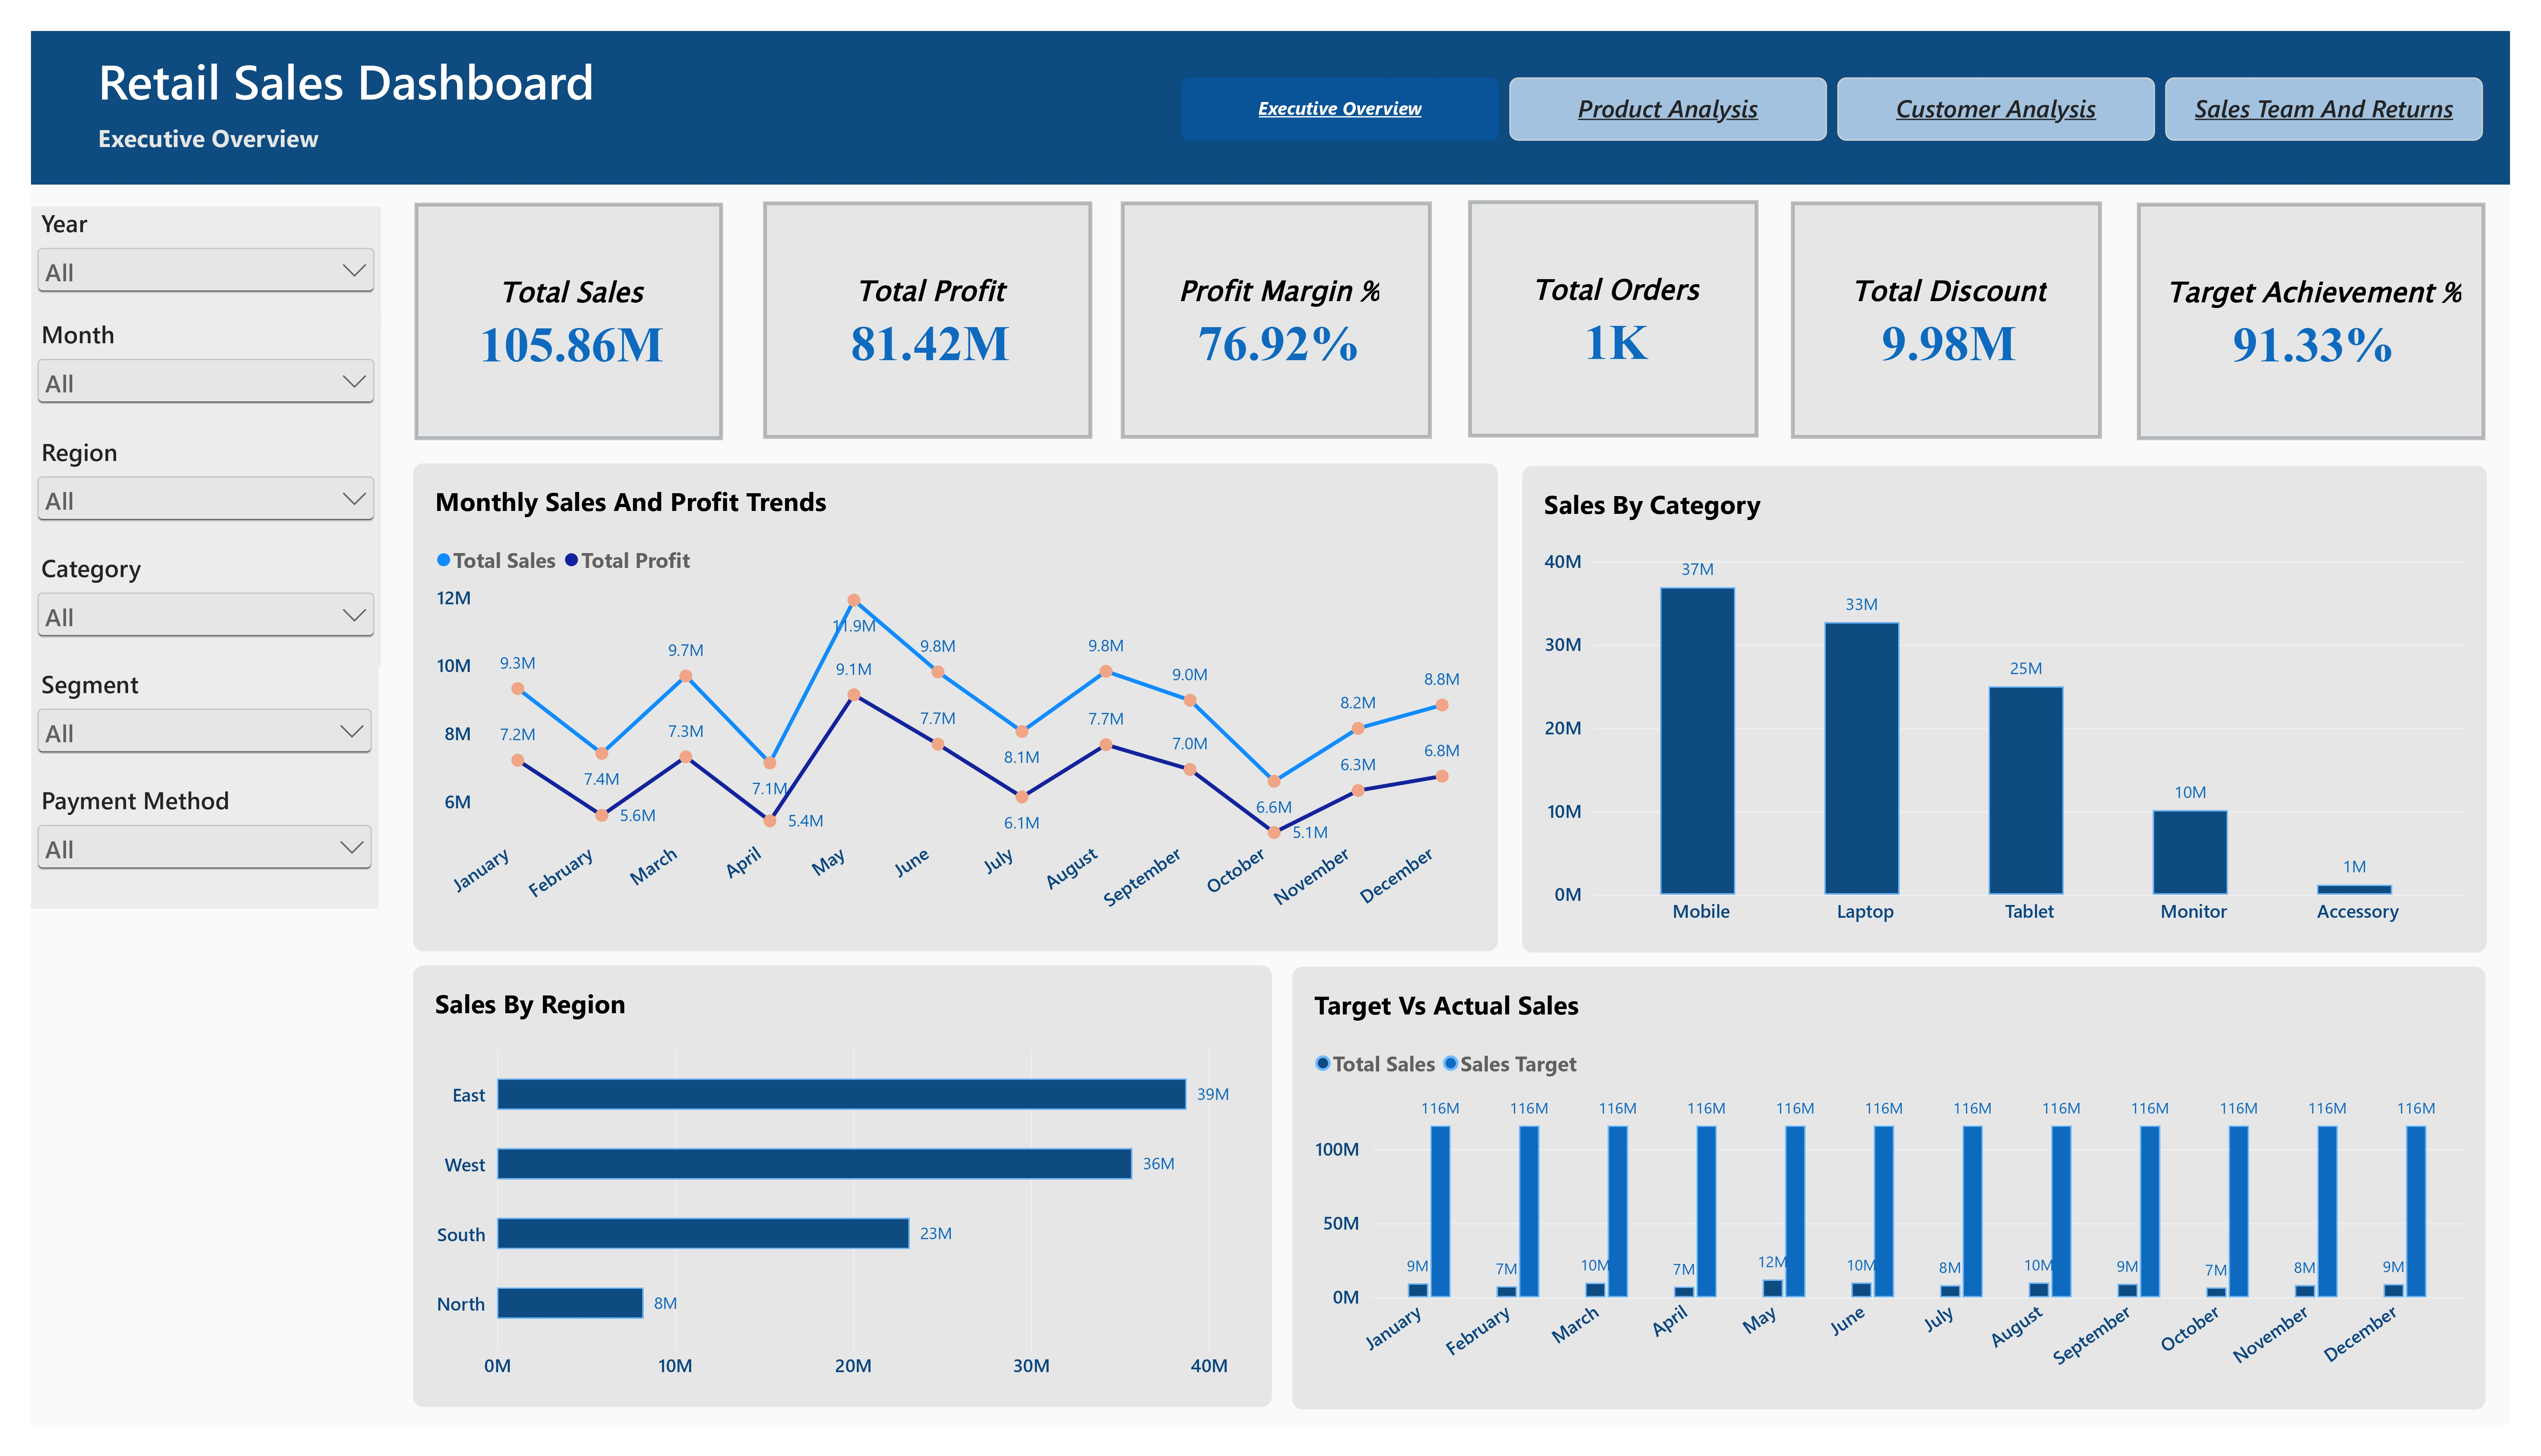

The dashboard page shown, as its layout file describes it:
{"tool":"powerbi","page":{"name":"Executive Overview","canvas":[1920,1080],"ordinal":0},"visuals":[{"type":"shape","box":[0,0,1919.9,119.4],"z":0},{"type":"textbox","box":[10.2,13.1,439.1,56.9],"z":1000},{"type":"textbox","box":[10.2,70,439.1,32.1],"z":2000},{"type":"slicer","fields":{"Values":["Calendar.Year"]},"box":[0,136,270.6,90.2],"z":3000},{"type":"slicer","fields":{"Values":["Calendar.MonthName"]},"box":[0,222.4,270.6,90.2],"z":4000},{"type":"slicer","fields":{"Values":["Products.Category"]},"box":[0,402.8,270.6,90.2],"z":5000},{"type":"slicer","fields":{"Values":["Employees.Region"]},"box":[0,312.6,270.6,90.2],"z":6000},{"type":"slicer","fields":{"Values":["Customers.Segment"]},"box":[0,493,269.4,90.2],"z":7000},{"type":"slicer","fields":{"Values":["Sales.PaymentMethod"]},"box":[0,583.2,269.4,96.6],"z":8000},{"type":"cardVisual","fields":{"Data":[" Measures .Total Sales"]},"box":[297.3,133.4,239.8,184.2],"z":9000},{"type":"cardVisual","fields":{"Data":[" Measures .Total Profit"]},"box":[566.7,132.1,255.7,184.2],"z":10000},{"type":"cardVisual","fields":{"Data":[" Measures .Profit Margin %"]},"box":[843.7,132.1,241.2,184.2],"z":11000},{"type":"cardVisual","fields":{"Data":[" Measures .Total Orders"]},"box":[1113,130.9,225.3,184.2],"z":12000},{"type":"cardVisual","fields":{"Data":[" Measures .Total Discount"]},"box":[1363.3,132.1,241.4,184.2],"z":13000},{"type":"cardVisual","fields":{"Data":[" Measures .Target Achievement %"]},"box":[1631.4,133.4,270.3,184.2],"z":14000},{"type":"lineChart","title":"Monthly Sales And Profit Trends","fields":{"Category":["Calendar.MonthName"],"Y":[" Measures .Total Sales"," Measures .Total Profit"]},"box":[296,335.4,840.1,377.6],"z":15000},{"type":"columnChart","title":"Sales By Category","fields":{"Category":["Products.Category"],"Y":[" Measures .Total Sales"]},"box":[1155,336.7,747.1,377.4],"z":16000},{"type":"barChart","title":"Sales By Region","fields":{"Category":["Employees.Region"],"Y":[" Measures .Total Sales"]},"box":[296,724.2,664.5,341.8],"z":17000},{"type":"clusteredColumnChart","title":"Target Vs Actual Sales","fields":{"Category":["Calendar.MonthName"],"Y":[" Measures .Total Sales"," Measures .Sales Target"]},"box":[976.6,724.8,924.9,343.2],"z":18000},{"type":"pageNavigator","box":[891.4,36.5,1009.6,49.6],"z":19000}]}

Visuals, with their boxes on the page's 1920x1080 design canvas (x1, y1, x2, y2). These are canvas units, not pixel positions in the 2541x1456 screenshot, which may show the page scaled, cropped or inside an application window:
shape: (x1=0, y1=0, x2=1920, y2=119)
textbox: (x1=10, y1=13, x2=449, y2=70)
textbox: (x1=10, y1=70, x2=449, y2=102)
slicer - Calendar.Year: (x1=0, y1=136, x2=271, y2=226)
slicer - Calendar.MonthName: (x1=0, y1=222, x2=271, y2=313)
slicer - Products.Category: (x1=0, y1=403, x2=271, y2=493)
slicer - Employees.Region: (x1=0, y1=313, x2=271, y2=403)
slicer - Customers.Segment: (x1=0, y1=493, x2=269, y2=583)
slicer - Sales.PaymentMethod: (x1=0, y1=583, x2=269, y2=680)
cardVisual -  Measures .Total Sales: (x1=297, y1=133, x2=537, y2=318)
cardVisual -  Measures .Total Profit: (x1=567, y1=132, x2=822, y2=316)
cardVisual -  Measures .Profit Margin %: (x1=844, y1=132, x2=1085, y2=316)
cardVisual -  Measures .Total Orders: (x1=1113, y1=131, x2=1338, y2=315)
cardVisual -  Measures .Total Discount: (x1=1363, y1=132, x2=1605, y2=316)
cardVisual -  Measures .Target Achievement %: (x1=1631, y1=133, x2=1902, y2=318)
"Monthly Sales And Profit Trends" lineChart: (x1=296, y1=335, x2=1136, y2=713)
"Sales By Category" columnChart: (x1=1155, y1=337, x2=1902, y2=714)
"Sales By Region" barChart: (x1=296, y1=724, x2=960, y2=1066)
"Target Vs Actual Sales" clusteredColumnChart: (x1=977, y1=725, x2=1902, y2=1068)
pageNavigator: (x1=891, y1=36, x2=1901, y2=86)
